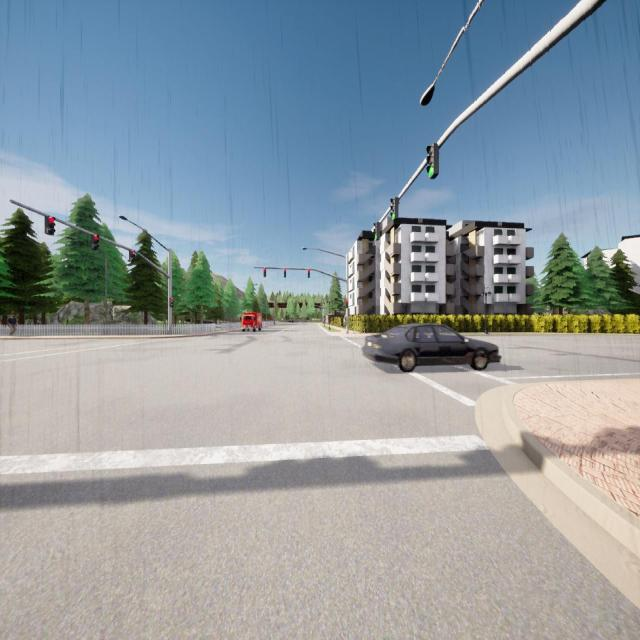Pedestrian: (8, 311, 16, 335)
Vehicle: (362, 324, 502, 372), (241, 311, 262, 332), (288, 320, 293, 323)
traffic_light: (426, 143, 439, 179), (44, 216, 56, 235), (391, 197, 398, 221), (91, 235, 100, 250), (373, 222, 380, 240), (129, 250, 135, 262), (170, 298, 173, 307), (308, 268, 310, 278), (264, 268, 266, 278), (346, 299, 348, 308), (284, 268, 286, 277)
